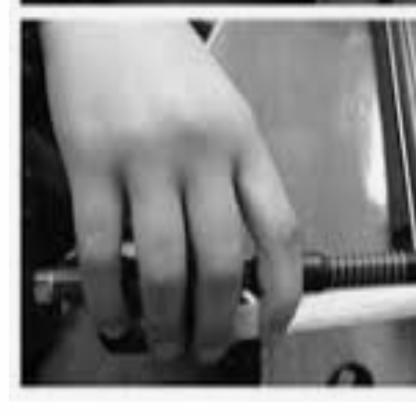good: (54, 46, 314, 358)
